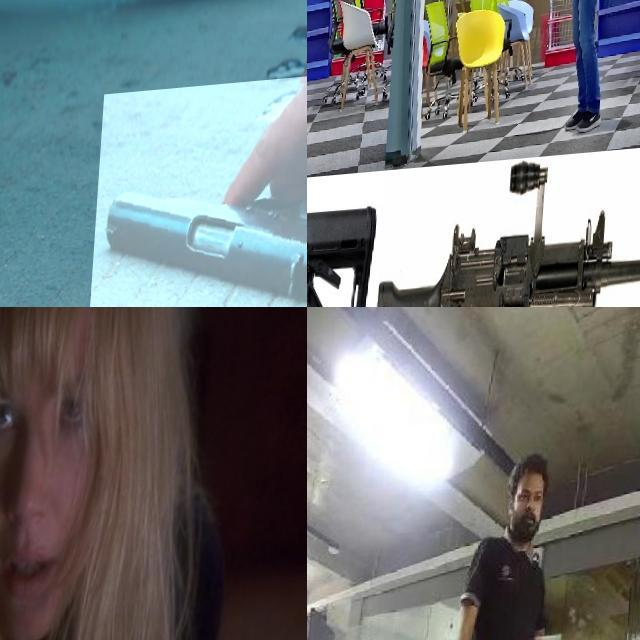gun-knife-thesis - v11 Yolov5 augmented: (94, 75, 307, 307), (372, 153, 640, 307), (0, 307, 79, 640), (307, 0, 319, 49), (536, 0, 559, 13)
